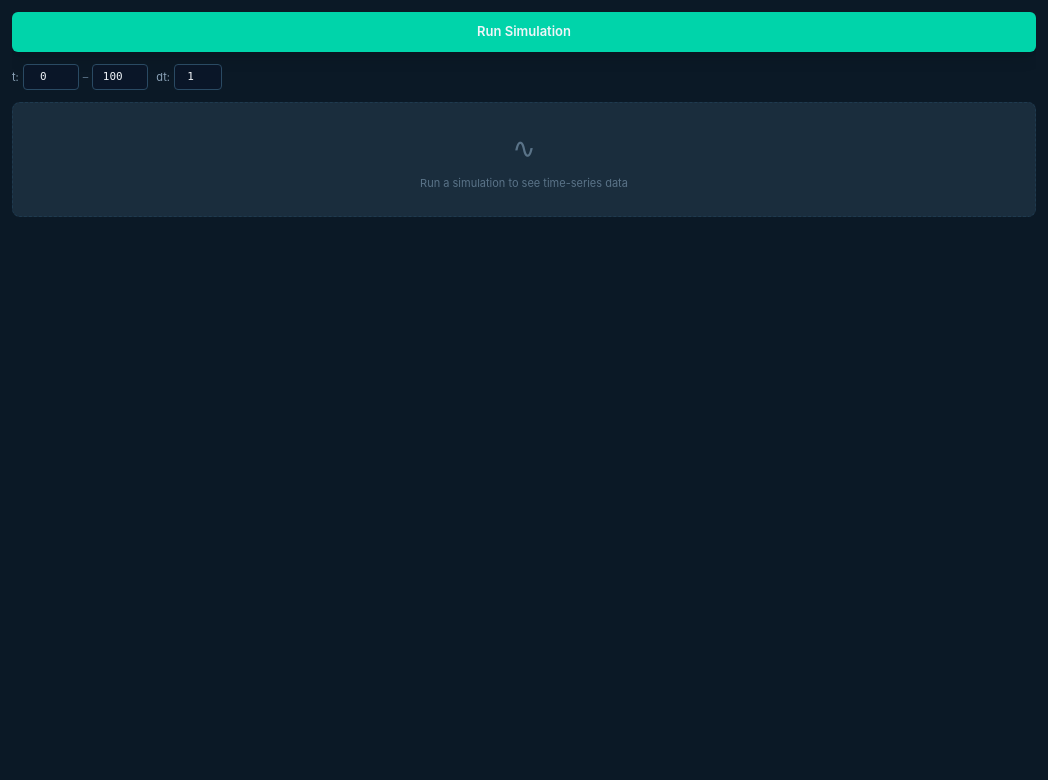
Test case: SimulationPanel › displays backend error result
The image size is (1048, 780).
Click the button "Run Simulation": (524, 32) 12,12 -> 1036,52
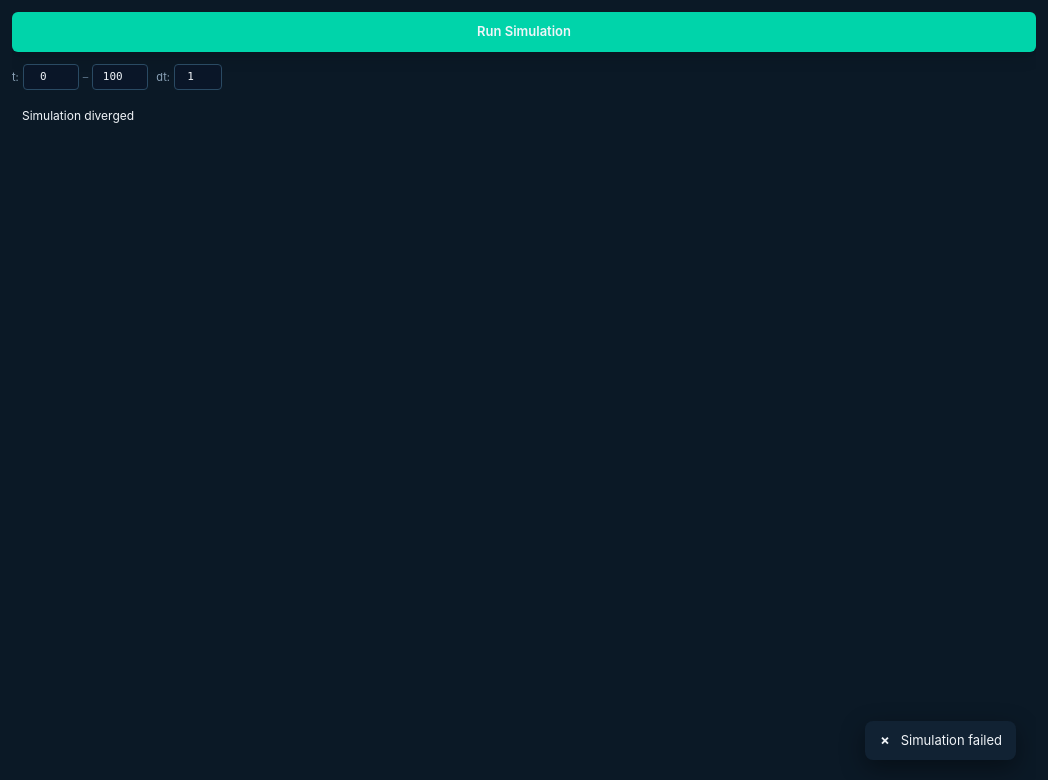
Expected: the text "Simulation diverged" is shown, 22,108 -> 134,123
